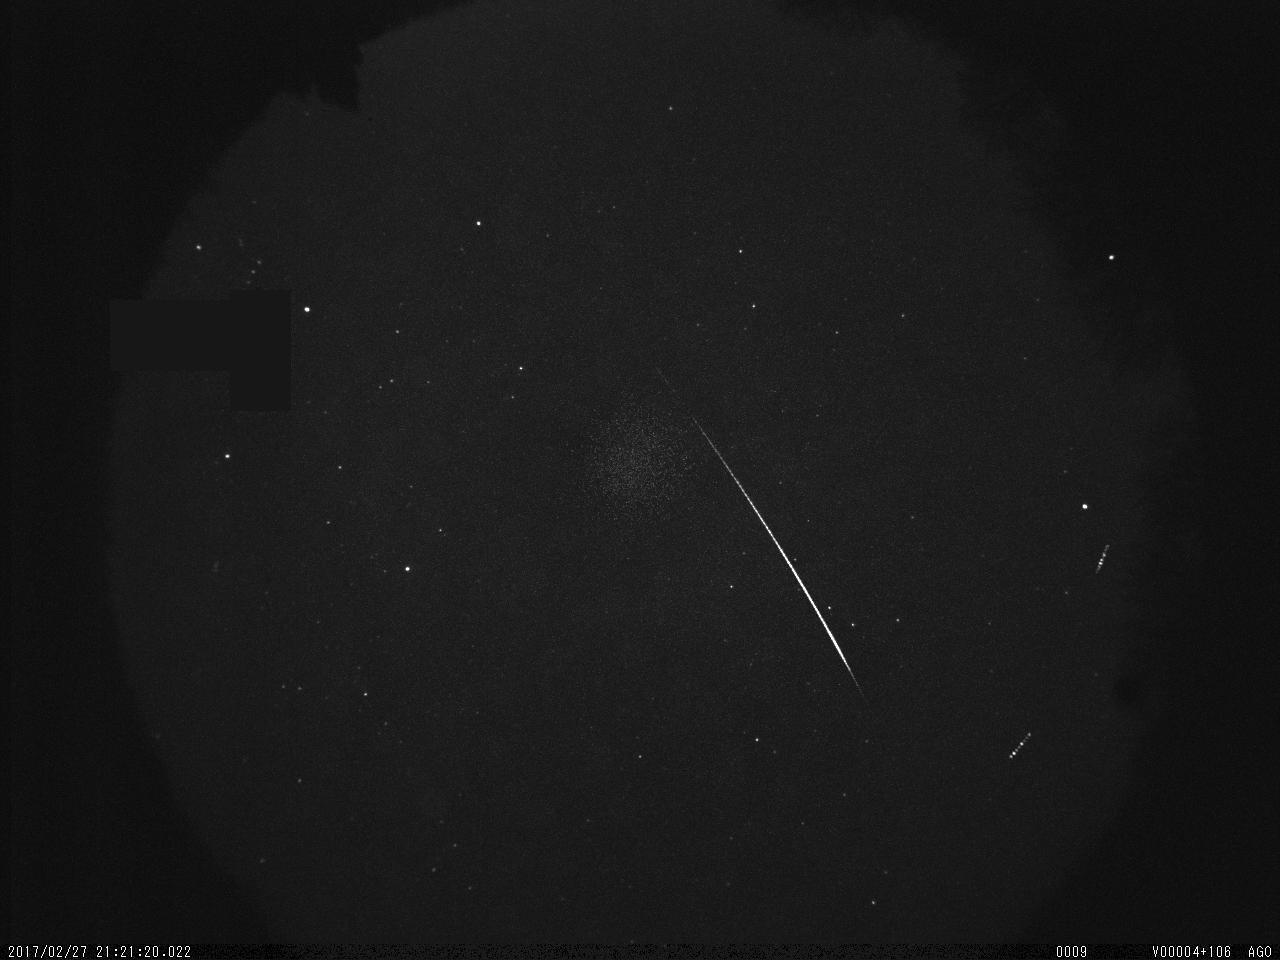meteor: (645, 354, 881, 711)
